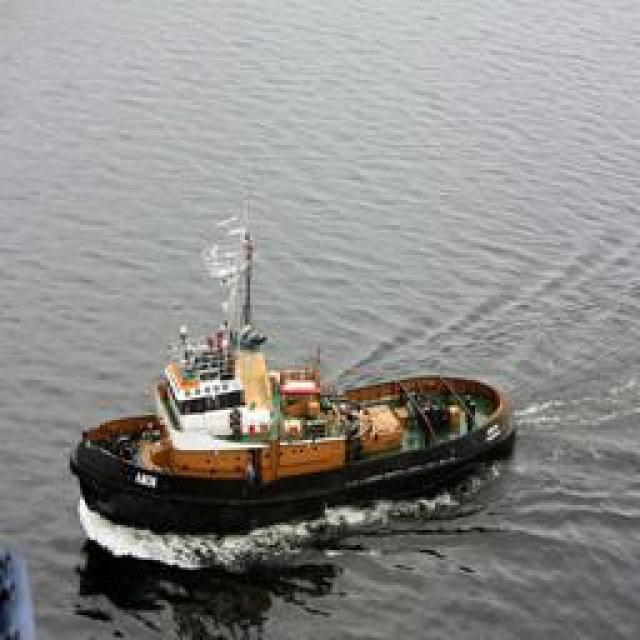CIV_Ship: (70, 342, 512, 550)
